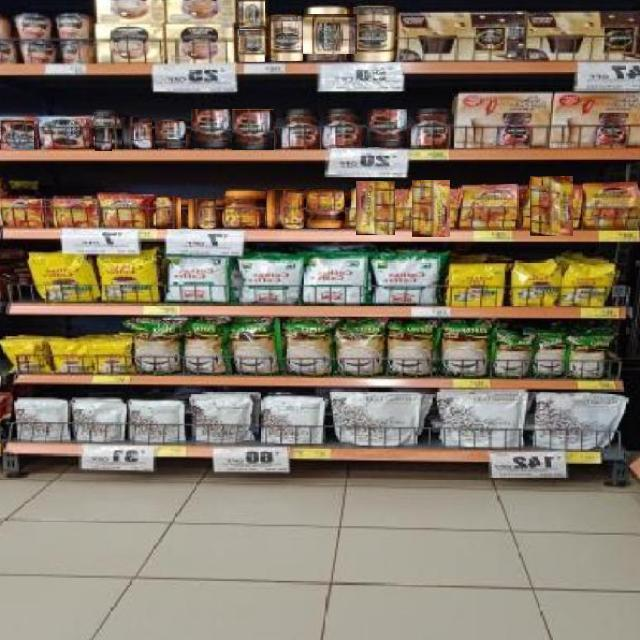Coffee: (459, 184, 518, 228), (530, 177, 573, 236), (583, 182, 639, 227), (352, 6, 395, 62), (302, 14, 357, 54), (412, 181, 450, 237), (357, 181, 395, 235), (232, 108, 274, 150), (220, 190, 266, 227), (190, 108, 232, 148), (277, 109, 320, 148), (409, 109, 452, 147), (323, 109, 366, 147), (40, 117, 88, 150), (269, 15, 303, 61), (367, 108, 407, 147), (101, 194, 146, 228), (266, 189, 304, 229), (306, 190, 345, 228), (0, 119, 34, 150), (123, 117, 152, 149), (238, 29, 265, 62), (188, 198, 216, 229), (155, 120, 186, 148), (156, 197, 181, 229), (237, 1, 265, 27), (94, 110, 121, 127), (95, 126, 112, 151)
